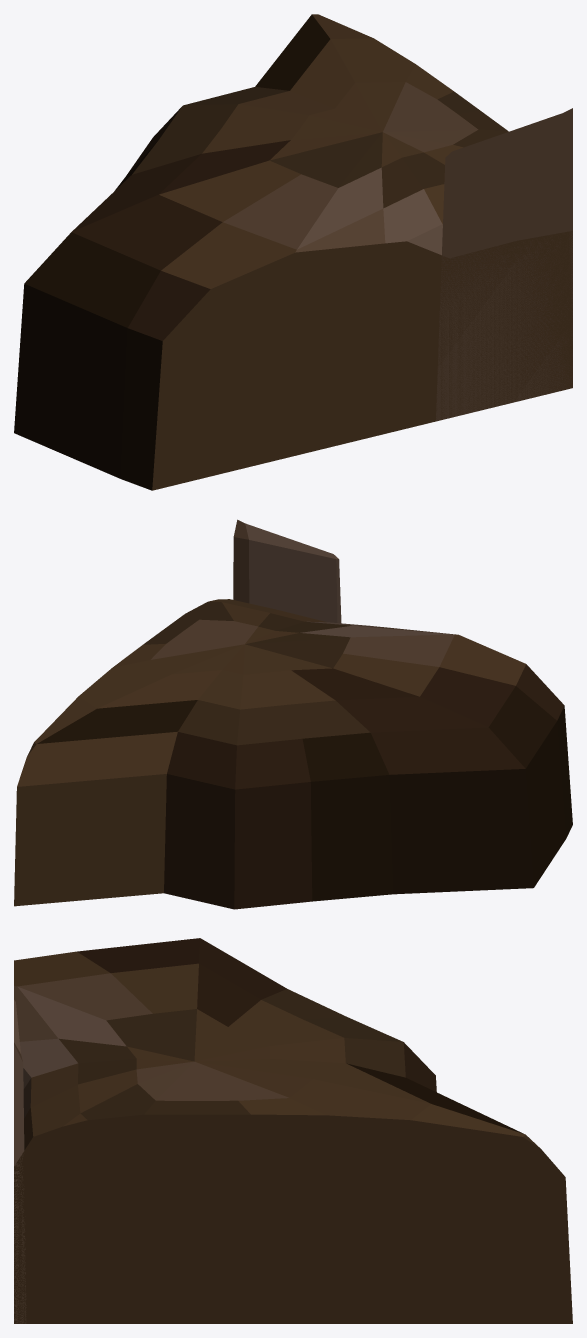
Rendered from newshr-153.glb.
3 renders of one model, top to bottom at view 1: azimuth 30°, elevation 25°; view 2: azimuth 150°, elevation 25°; view 3: azimuth 270°, elevation 25°, orthographic. The views are drawn at different scales.
Visible parts, largest first — view 1: newshr-153; view 2: newshr-153; view 3: newshr-153.
Boxes of the visible parts, x1,y1,x2,y2 form: newshr-153: [14, 14, 572, 490]; newshr-153: [14, 519, 572, 909]; newshr-153: [14, 938, 572, 1323].
Size of the model in its own units: 1.28 by 0.7354 by 1.33.
